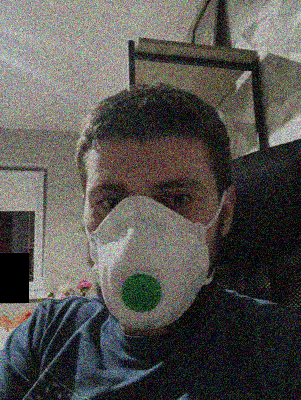with_mask: (81, 174, 222, 331)
